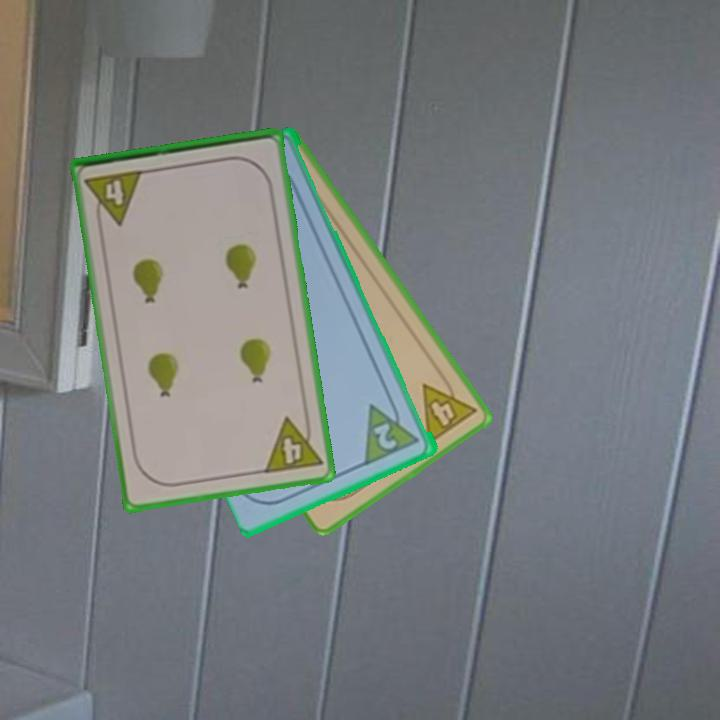2p: (370, 419, 401, 453)
4p: (418, 368, 479, 448), (260, 411, 325, 477), (82, 166, 147, 230)
